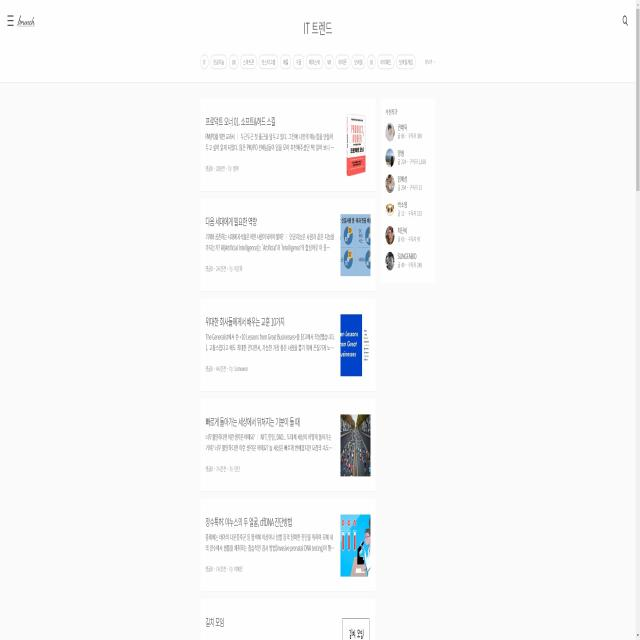search: (616, 10, 632, 38)
side-panel: (379, 94, 437, 285)
tab-bar: (197, 49, 436, 74), (3, 10, 41, 32)
